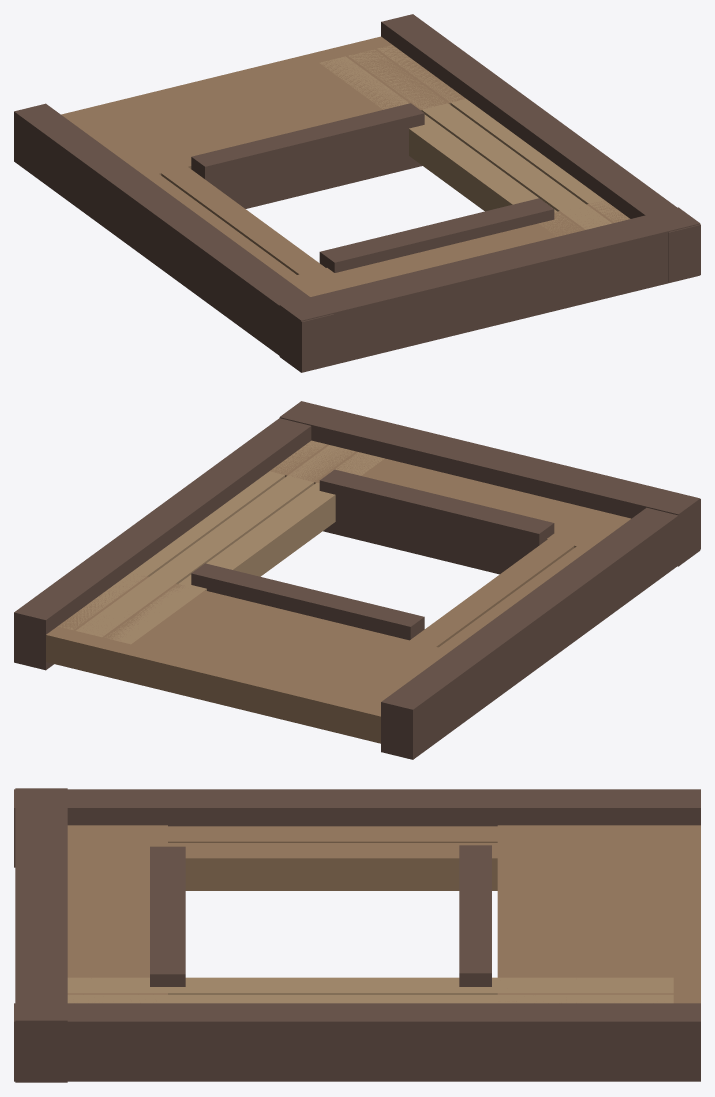
The model's file is tier01_rustic_plank_wall_with_window.glb.
3 views of the same model, one above another, from view 1: azimuth 30°, elevation 25°; view 2: azimuth 150°, elevation 25°; view 3: azimuth 270°, elevation 25° (orthographic). The views are drawn at different scales.
Parts seen in each view (by area): view 1: tier01_rustic_plank_wall_with_window_013, tier01_rustic_plank_wall_with_window_000, tier01_rustic_plank_wall_with_window_009, tier01_rustic_plank_wall_with_window_002, tier01_rustic_plank_wall_with_window_011, tier01_rustic_plank_wall_with_window_006, tier01_rustic_plank_wall_with_window_005, tier01_rustic_plank_wall_with_window_007, tier01_rustic_plank_wall_with_window_012, tier01_rustic_plank_wall_with_window_010, tier01_rustic_plank_wall_with_window_008, tier01_rustic_plank_wall_with_window_004; view 2: tier01_rustic_plank_wall_with_window_009, tier01_rustic_plank_wall_with_window_000, tier01_rustic_plank_wall_with_window_013, tier01_rustic_plank_wall_with_window_002, tier01_rustic_plank_wall_with_window_012, tier01_rustic_plank_wall_with_window_006, tier01_rustic_plank_wall_with_window_010, tier01_rustic_plank_wall_with_window_007, tier01_rustic_plank_wall_with_window_005, tier01_rustic_plank_wall_with_window_011, tier01_rustic_plank_wall_with_window_008, tier01_rustic_plank_wall_with_window_004; view 3: tier01_rustic_plank_wall_with_window_002, tier01_rustic_plank_wall_with_window_009, tier01_rustic_plank_wall_with_window_000, tier01_rustic_plank_wall_with_window_005, tier01_rustic_plank_wall_with_window_013, tier01_rustic_plank_wall_with_window_010, tier01_rustic_plank_wall_with_window_004, tier01_rustic_plank_wall_with_window_006, tier01_rustic_plank_wall_with_window_007, tier01_rustic_plank_wall_with_window_012, tier01_rustic_plank_wall_with_window_011.
Boxes of the visible parts, x1,y1,x2,y2 form: tier01_rustic_plank_wall_with_window_013: (279, 207, 700, 372); tier01_rustic_plank_wall_with_window_000: (14, 103, 333, 372); tier01_rustic_plank_wall_with_window_009: (61, 36, 465, 176); tier01_rustic_plank_wall_with_window_002: (381, 14, 700, 282); tier01_rustic_plank_wall_with_window_011: (191, 103, 424, 208); tier01_rustic_plank_wall_with_window_006: (320, 56, 579, 236); tier01_rustic_plank_wall_with_window_005: (88, 113, 351, 293); tier01_rustic_plank_wall_with_window_007: (349, 49, 611, 229); tier01_rustic_plank_wall_with_window_012: (319, 198, 554, 272); tier01_rustic_plank_wall_with_window_010: (284, 200, 629, 296); tier01_rustic_plank_wall_with_window_008: (377, 45, 629, 222); tier01_rustic_plank_wall_with_window_004: (73, 120, 318, 296); tier01_rustic_plank_wall_with_window_009: (46, 574, 450, 743); tier01_rustic_plank_wall_with_window_000: (381, 499, 700, 759); tier01_rustic_plank_wall_with_window_013: (279, 401, 700, 566); tier01_rustic_plank_wall_with_window_002: (14, 418, 311, 670); tier01_rustic_plank_wall_with_window_012: (319, 469, 554, 574); tier01_rustic_plank_wall_with_window_006: (105, 452, 384, 644); tier01_rustic_plank_wall_with_window_010: (270, 441, 630, 548); tier01_rustic_plank_wall_with_window_007: (76, 445, 355, 637); tier01_rustic_plank_wall_with_window_005: (336, 508, 615, 700); tier01_rustic_plank_wall_with_window_011: (191, 563, 424, 640); tier01_rustic_plank_wall_with_window_008: (58, 440, 326, 629); tier01_rustic_plank_wall_with_window_004: (365, 516, 630, 704); tier01_rustic_plank_wall_with_window_002: (14, 1003, 700, 1081); tier01_rustic_plank_wall_with_window_009: (497, 825, 700, 1003); tier01_rustic_plank_wall_with_window_000: (14, 789, 700, 867); tier01_rustic_plank_wall_with_window_005: (67, 843, 673, 890); tier01_rustic_plank_wall_with_window_013: (15, 788, 67, 1082); tier01_rustic_plank_wall_with_window_010: (67, 825, 167, 994); tier01_rustic_plank_wall_with_window_004: (67, 826, 673, 842); tier01_rustic_plank_wall_with_window_006: (67, 977, 673, 994); tier01_rustic_plank_wall_with_window_007: (67, 994, 673, 1003); tier01_rustic_plank_wall_with_window_012: (150, 846, 185, 986); tier01_rustic_plank_wall_with_window_011: (459, 845, 491, 986).
Bounding box in the file's own units: 2 × 0.27 × 2.5.
